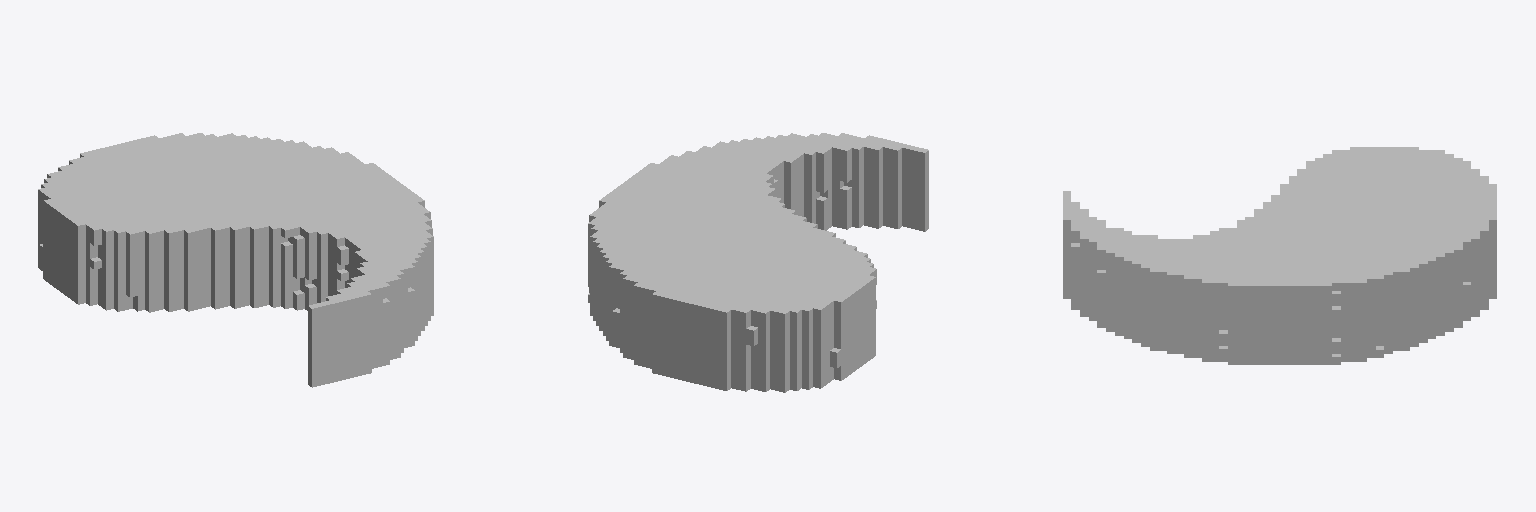
File: yinVoxel.obj
3 renders of one model, left to right at view 1: azimuth 30°, elevation 25°; view 2: azimuth 150°, elevation 25°; view 3: azimuth 270°, elevation 25°, orthographic.
Size of the model in its own units: 7.76 by 2.04 by 10.2.